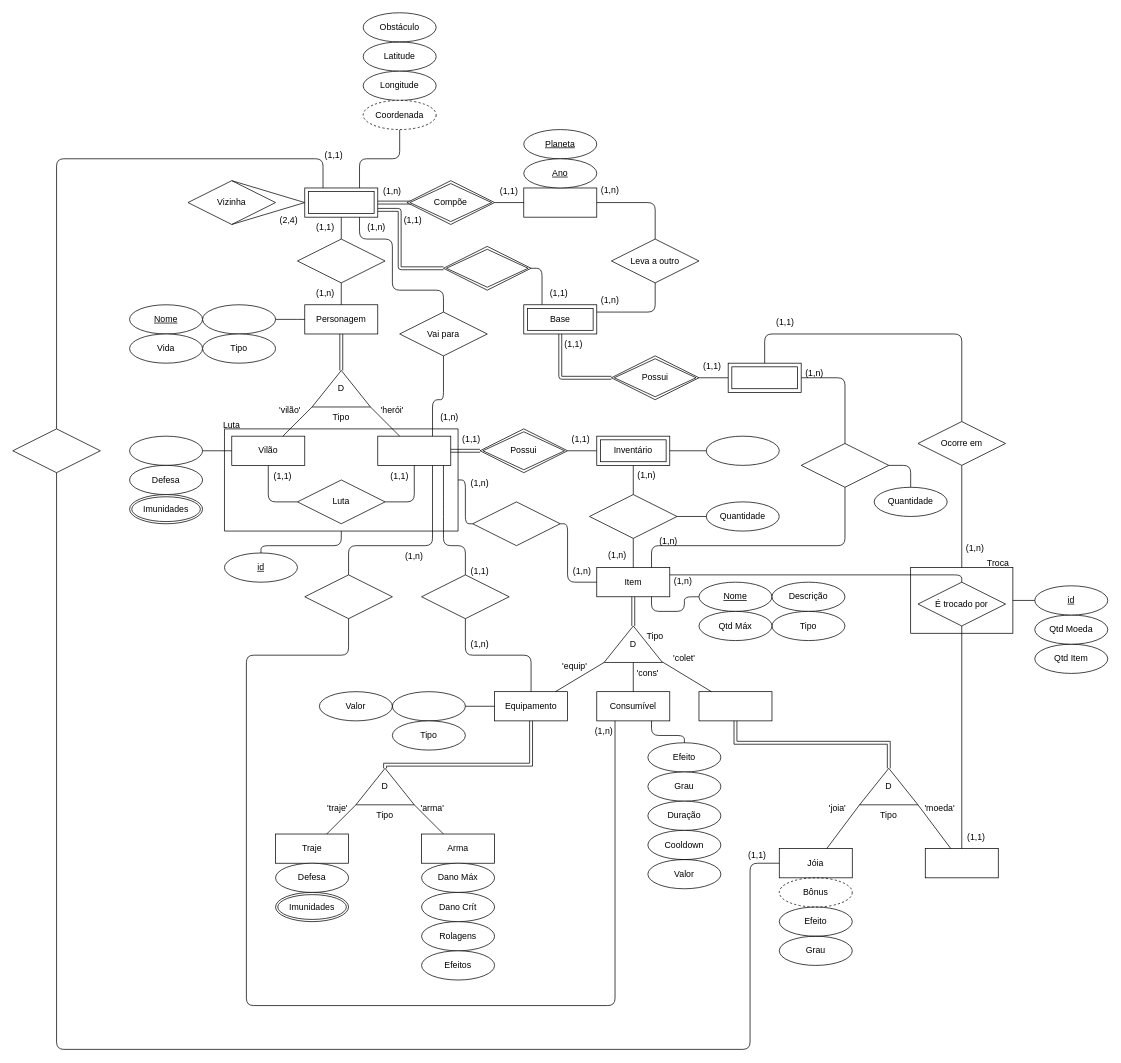
This 1121x1063 diagram has some shape labels left out. The centre of each missing label's shape, as x and y in pixels:
"Agilidade" belongs at pixel 239 319.
"Coletável" belongs at pixel 735 706.
"Consome" belongs at pixel 348 596.
"Dano" belongs at pixel 166 450.
"Equipa" belongs at pixel 465 596.
"Espaço" belongs at pixel 341 202.
"Estoca" belongs at pixel 844 465.
"Está em" belongs at pixel 341 260.
"Está guardada em" belongs at pixel 56 450.
"Guarda" belongs at pixel 633 516.
"Herói" belongs at pixel 414 450.
"Integridade" belongs at pixel 428 706.
"Loja" belongs at pixel 764 377.
"Mapa" belongs at pixel 560 202.
"Moeda" belongs at pixel 961 863.
"Recompensa" belongs at pixel 516 523.
"Se localiza em" belongs at pixel 487 268.
"Tamanho" belongs at pixel 742 450.
